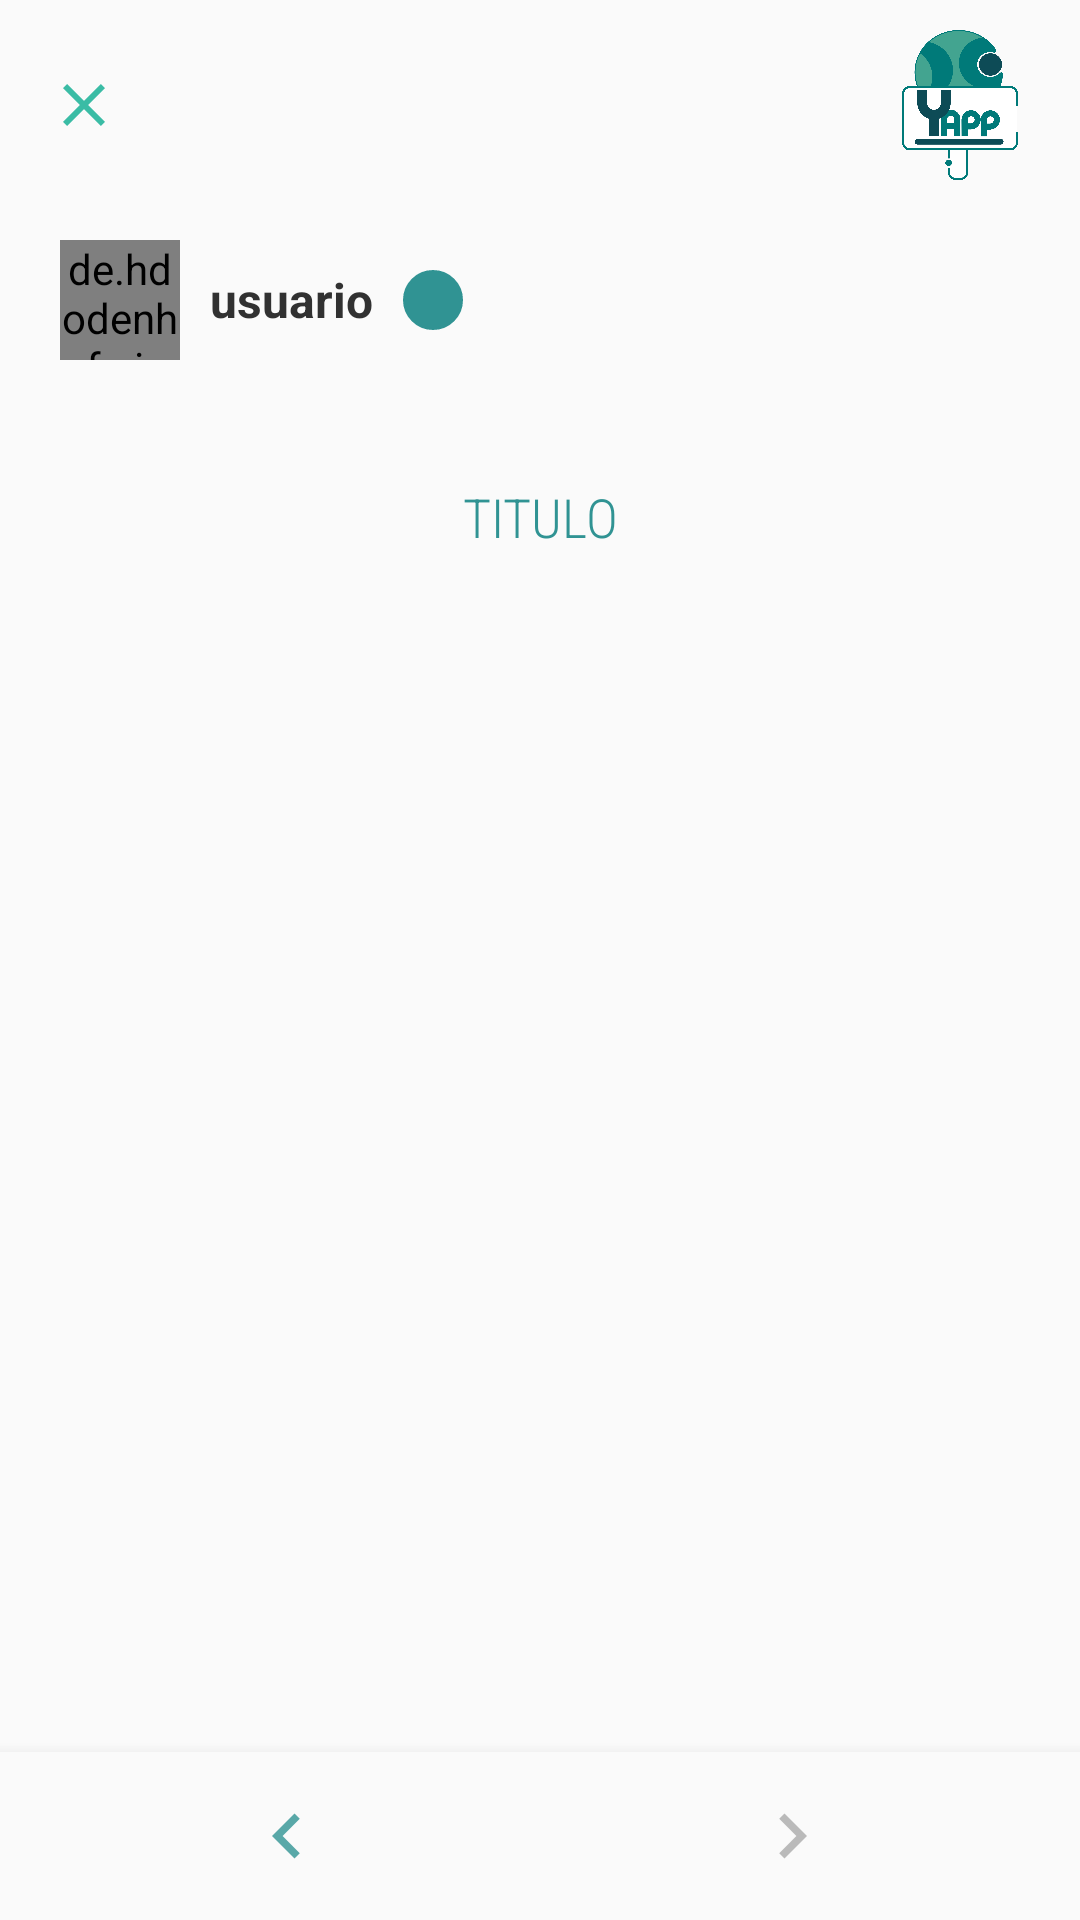

Icon bounding boxes for this 1080w x 1920h phone screenshot, format [left=x1, top=y1, right=x2, bottom=y2]:
close: [left=63, top=84, right=105, bottom=126]
